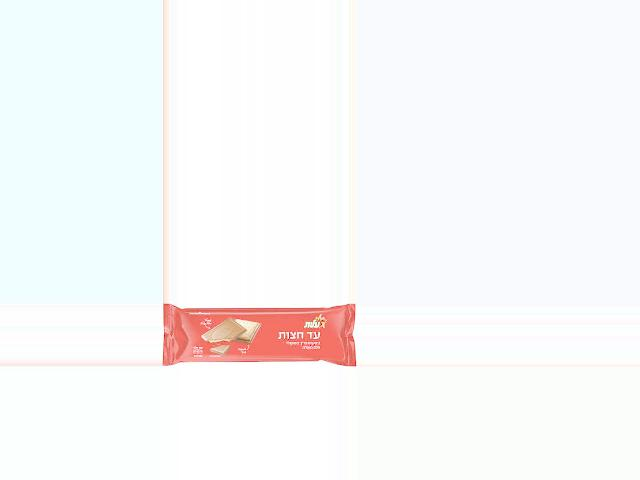chocolate: (164, 303, 351, 367)
